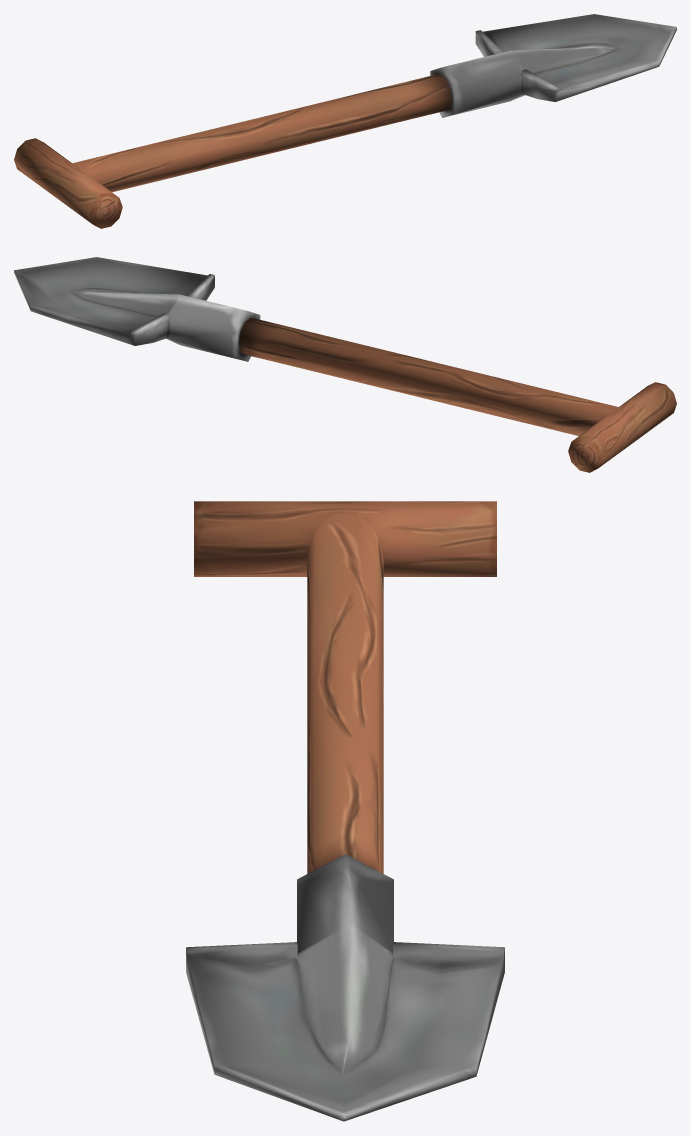
The model's file is kürek.fbx.
3 renders of one model, top to bottom at view 1: azimuth 30°, elevation 25°; view 2: azimuth 150°, elevation 25°; view 3: azimuth 270°, elevation 25°, orthographic. The views are drawn at different scales.
Visible parts, largest first — view 1: kürek; view 2: kürek; view 3: kürek.
Boxes of the visible parts, x1,y1,x2,y2 form: kürek: (14,14,676,228); kürek: (14,257,676,472); kürek: (186,501,504,1121).
Bounding box in the file's own units: 94.71 × 7.36 × 20.93.
1 material, 1 textured.
